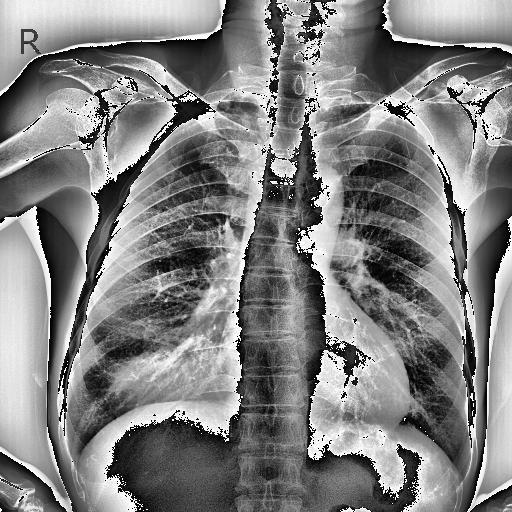11- Pleural thickening: (318, 98, 384, 121), (203, 96, 260, 112)
6- Infiltration: (110, 330, 240, 410), (110, 324, 238, 404)
7- Lung Opacity: (110, 330, 240, 410), (122, 338, 222, 404)
